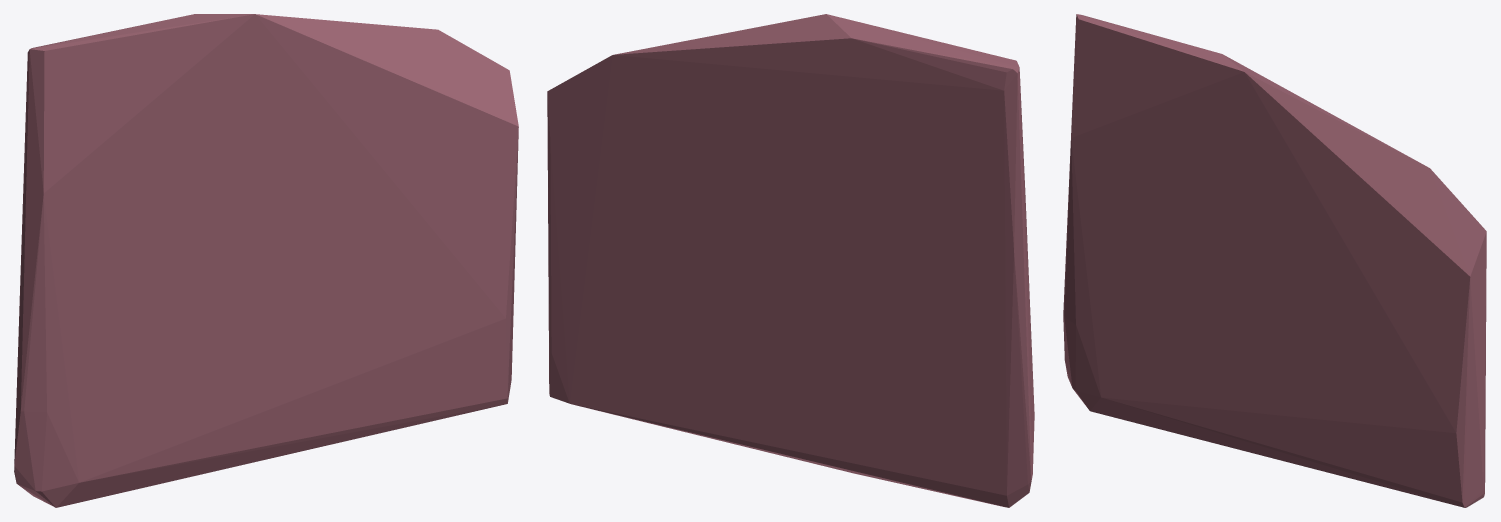
Rendered from cleaning_cloth_a01.glb.
The picture shows the model from 3 angles, left to right: view 1: azimuth 30°, elevation 25°; view 2: azimuth 150°, elevation 25°; view 3: azimuth 330°, elevation 25°; orthographic projection. The views are drawn at different scales.
Visible parts, largest first — view 1: geometry_0; view 2: geometry_0; view 3: geometry_0.
Part boxes in pixels (bbox=[...]): geometry_0: bbox=[14, 14, 518, 507]; geometry_0: bbox=[547, 14, 1034, 507]; geometry_0: bbox=[1063, 14, 1486, 507].
Bounding box in the file's own units: 0.4786 × 0.4262 × 0.0309.
